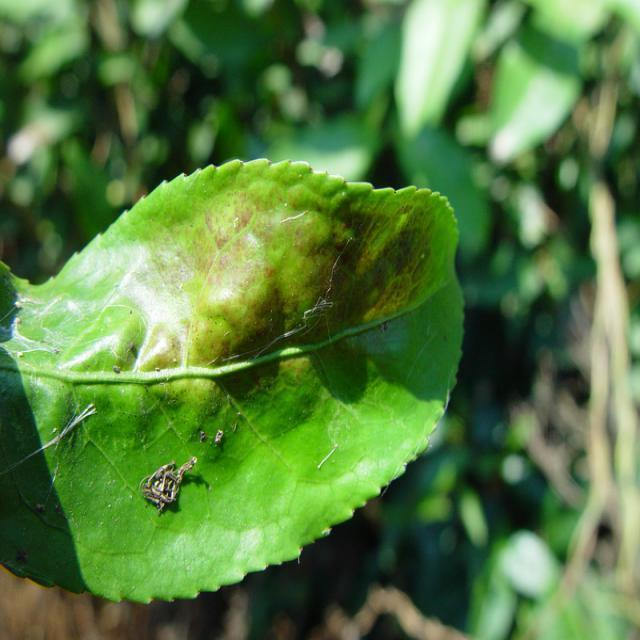Tea exobasidium blight: (110, 196, 401, 369)
